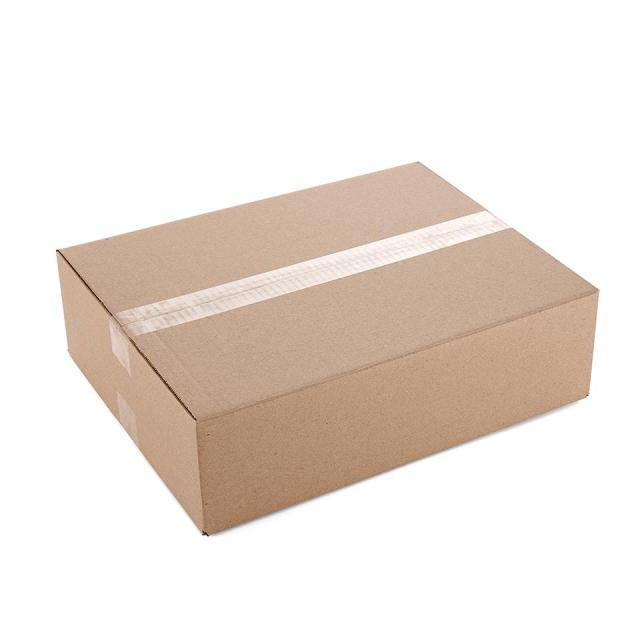Pathole: (50, 160, 605, 542)
